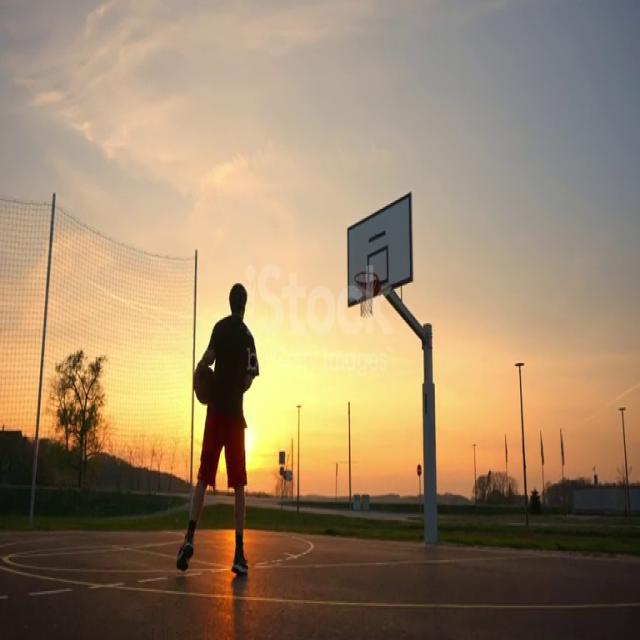ball: (193, 363, 219, 407)
